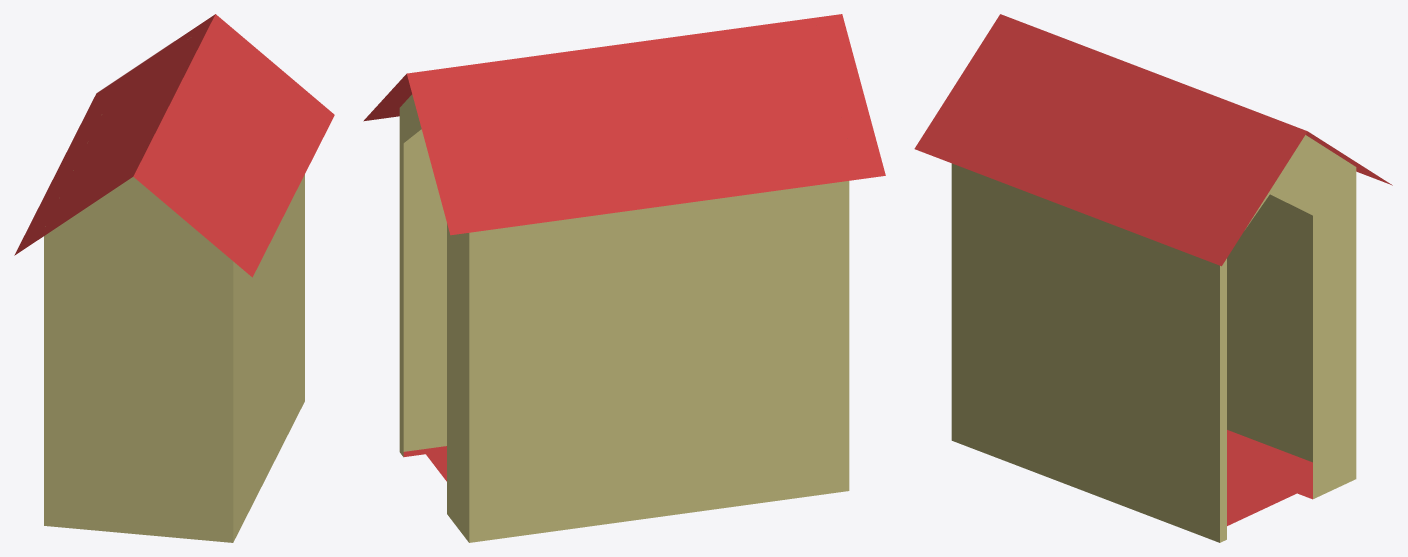
The picture shows the model from 3 angles, left to right: view 1: azimuth 30°, elevation 25°; view 2: azimuth 150°, elevation 25°; view 3: azimuth 270°, elevation 25°; orthographic projection. The views are drawn at different scales.
Bounding box in the file's own units: 8.85 × 9.07 × 8.08.
